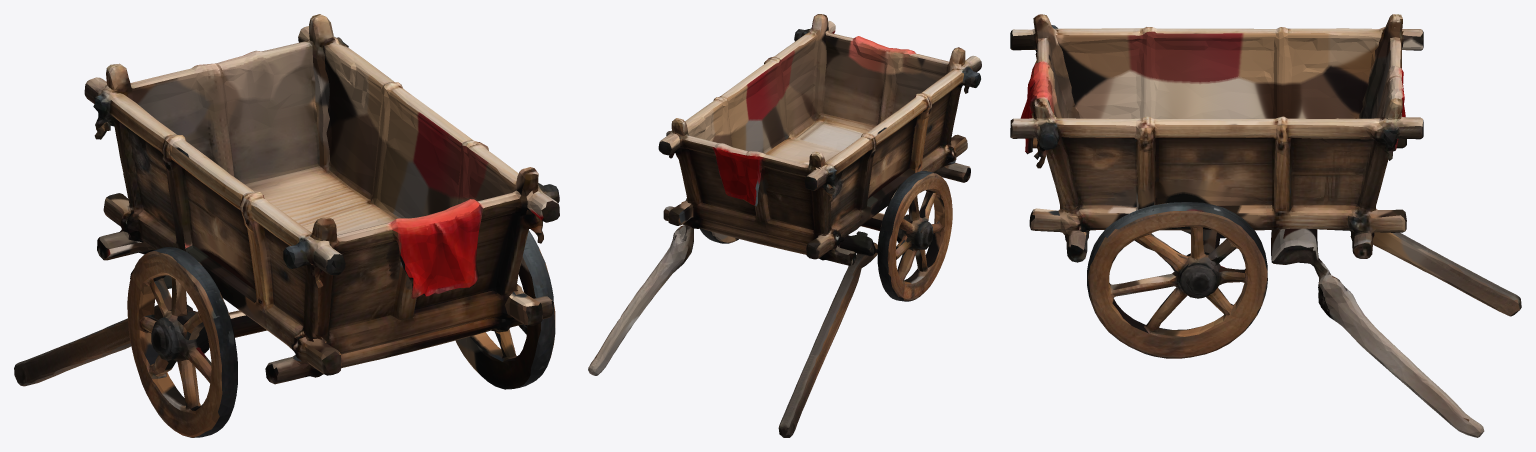
File: traveler_env_coast_smooth_shadowlands_cart_00001_.glb
3 renders of one model, left to right at view 1: azimuth 30°, elevation 25°; view 2: azimuth 150°, elevation 25°; view 3: azimuth 270°, elevation 25°, orthographic. The views are drawn at different scales.
Parts seen in each view (by area): view 1: temp_mesh.ply; view 2: temp_mesh.ply; view 3: temp_mesh.ply.
Boxes of the visible parts, <box> form: temp_mesh.ply: <box>14,14,559,437</box>; temp_mesh.ply: <box>588,14,981,437</box>; temp_mesh.ply: <box>1010,14,1521,437</box>.
Size of the model in its own units: 1.13 by 1.12 by 1.68.
Materials: 1 (1 with a texture image).
